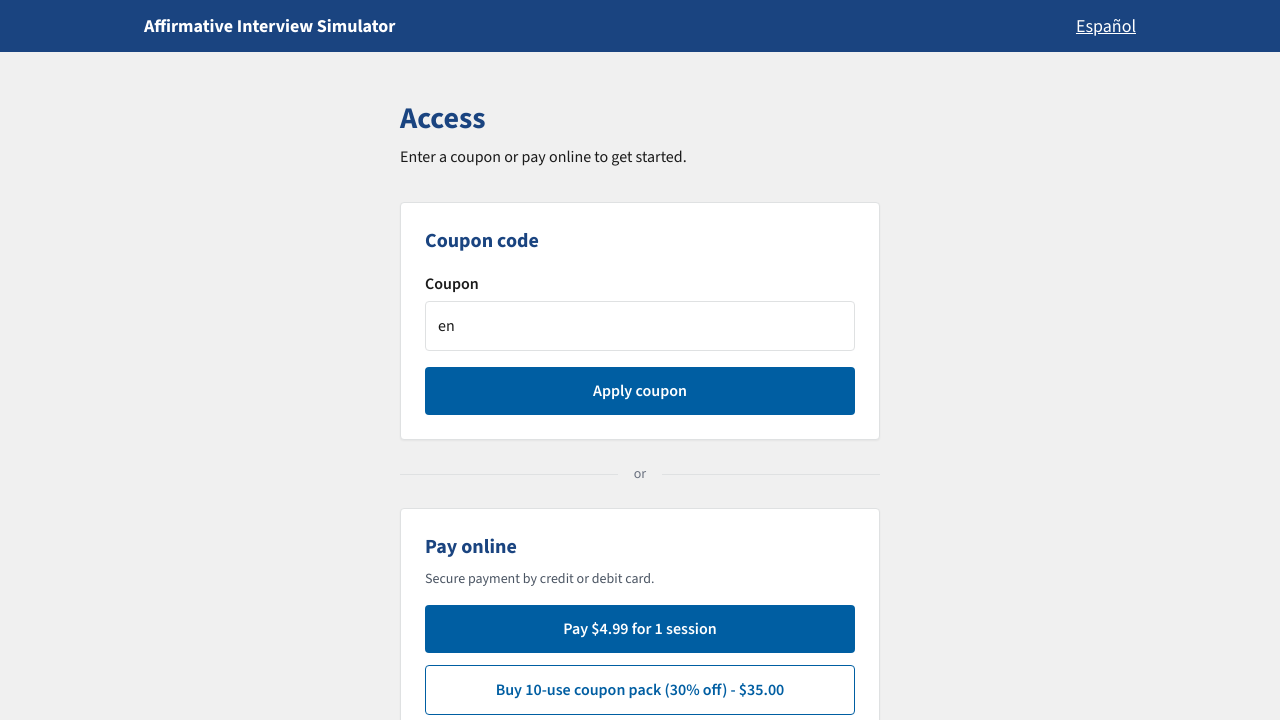
Test: PayPage › shows the generic checkout failure for resolved non-ok responses
The image size is (1280, 720).
Click the button "Pay $4.99 for 1 session" at (640, 629), box [425,605,855,653]
(page scrolled)
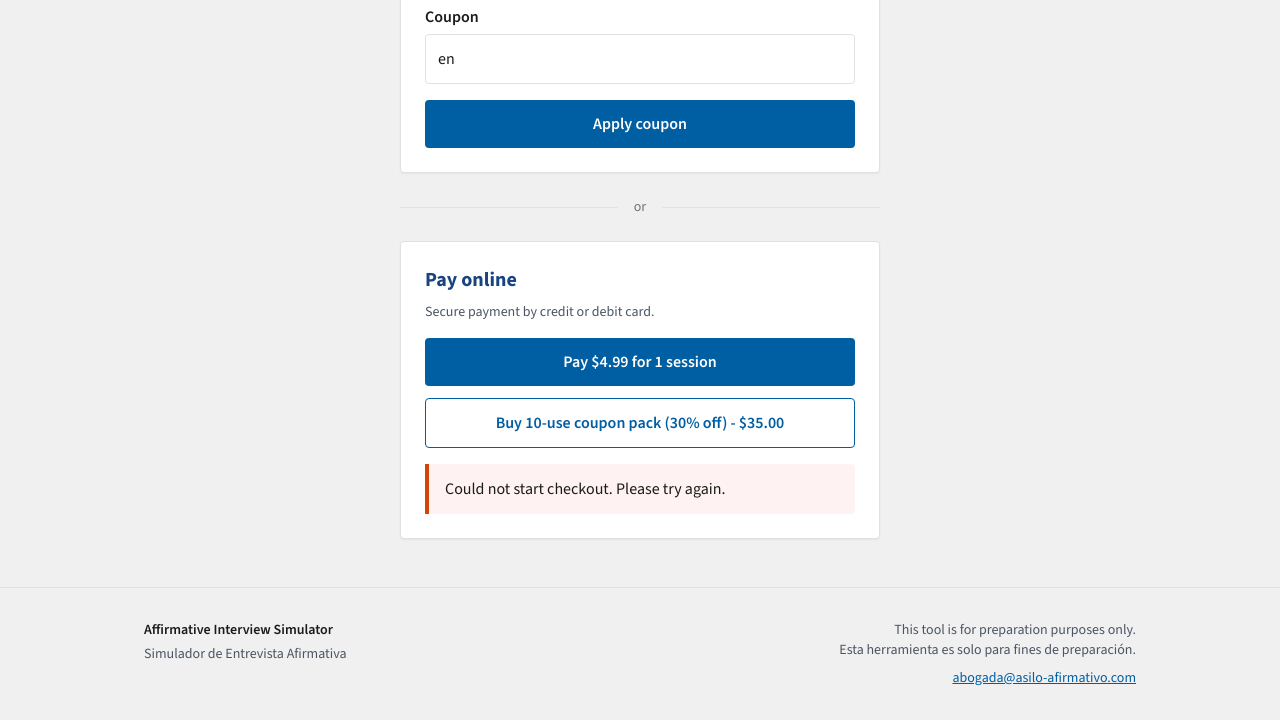
Check: the text "Could not start checkout. Please try again." is shown, box [445,478,726,499]
